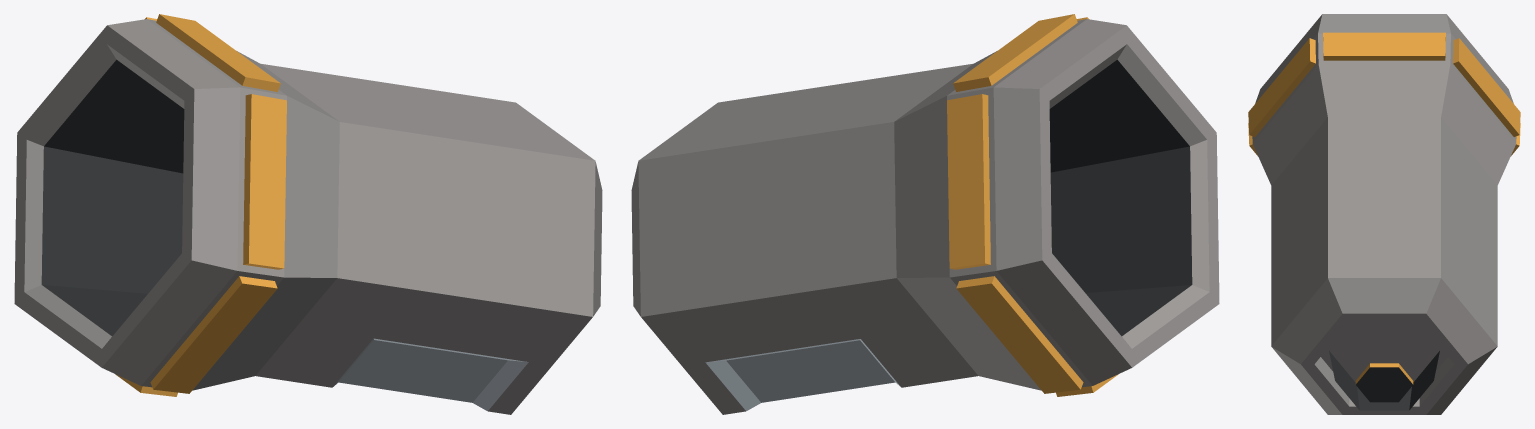
Rendered from canon.fbx.
3 views of the same model, side by side, from view 1: azimuth 30°, elevation 25°; view 2: azimuth 150°, elevation 25°; view 3: azimuth 270°, elevation 25° (orthographic). The views are drawn at different scales.
Visible parts, largest first — view 1: Cylinder; view 2: Cylinder; view 3: Cylinder.
Boxes of the visible parts, x1,y1,x2,y2 form: Cylinder: (14,14,602,414); Cylinder: (631,14,1219,414); Cylinder: (1248,14,1520,414).
Size of the model in its own units: 150 by 111 by 94.53.
